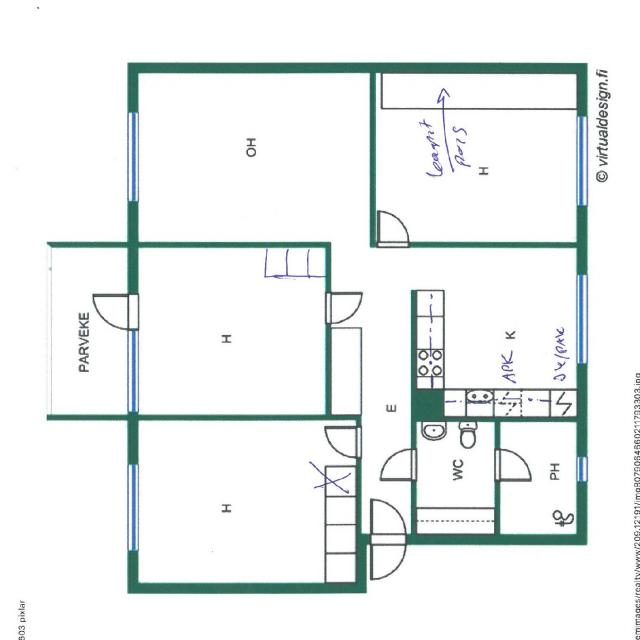door: (370, 498, 406, 545), (370, 534, 406, 580), (93, 294, 138, 328), (378, 448, 416, 481), (325, 292, 363, 324), (494, 449, 531, 481), (324, 426, 362, 457), (378, 212, 408, 247)
